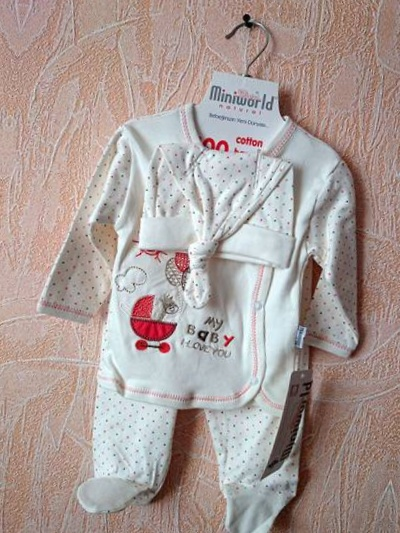Body: (5, 36, 394, 533)
